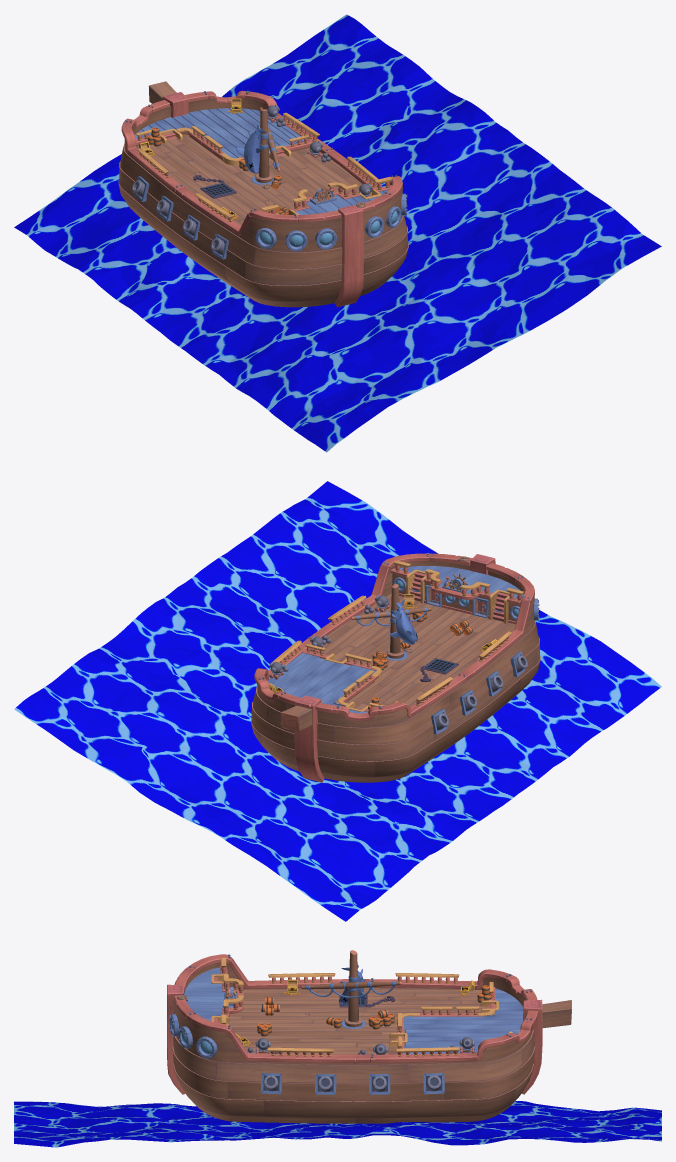
Rendered from sunken.glb.
3 renders of one model, top to bottom at view 1: azimuth 30°, elevation 25°; view 2: azimuth 150°, elevation 25°; view 3: azimuth 270°, elevation 25°, orthographic. The views are drawn at different scales.
Visible parts, largest first — view 1: waterplane, SunkenShip, sm_ps_sharkmeath; view 2: waterplane, SunkenShip; view 3: SunkenShip, waterplane.
Part boxes in pixels (left/top/right/bottom): waterplane: left=14, top=14, right=661, bottom=452; SunkenShip: left=118, top=81, right=408, bottom=307; sm_ps_sharkmeath: left=236, top=123, right=266, bottom=173; waterplane: left=14, top=481, right=661, bottom=921; SunkenShip: left=251, top=553, right=540, bottom=782; SunkenShip: left=167, top=950, right=571, bottom=1123; waterplane: left=14, top=1101, right=661, bottom=1147.
Size of what is drawn, in the model's own units: 48.66 by 28.18 by 78.69.
Materials: 8 (8 with a texture image).
